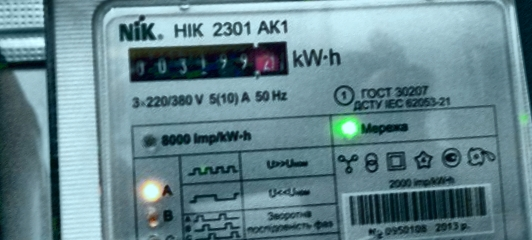0: (132, 55, 147, 76), (155, 53, 168, 74)
1: (196, 48, 208, 68)
3: (176, 54, 188, 74)
6: (260, 56, 272, 73)
9: (237, 50, 249, 70), (217, 49, 228, 69)
screen: (119, 19, 299, 104)
